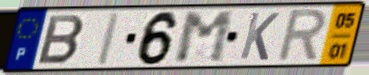6: (134, 9, 182, 67)
B: (35, 13, 87, 66)
I: (93, 11, 124, 67)
K: (237, 11, 282, 63)
M: (173, 9, 236, 65)
R: (273, 7, 329, 65)
